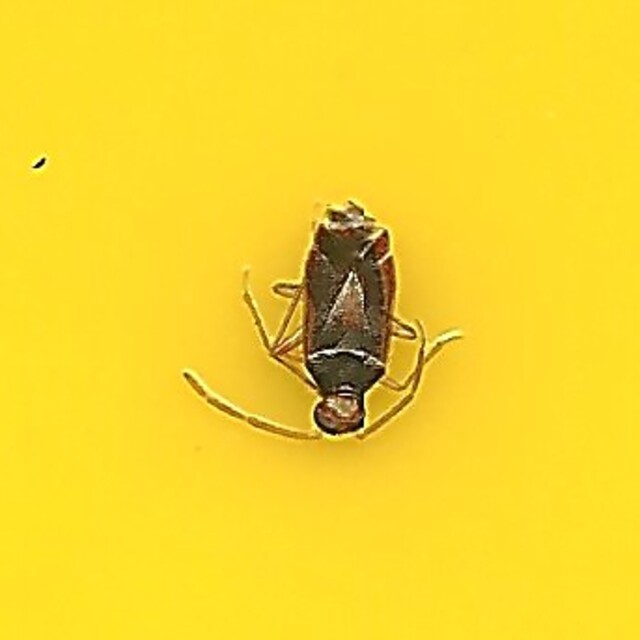Hemiptera: (187, 191, 453, 449)
